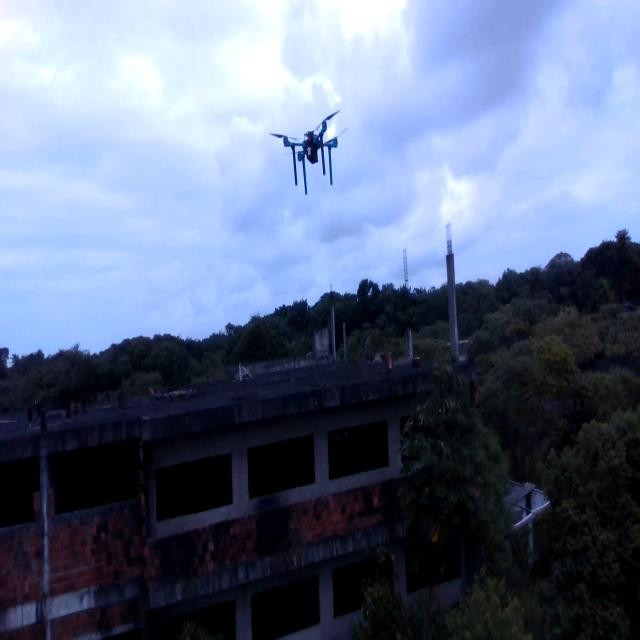-uav-: (264, 107, 351, 197)
